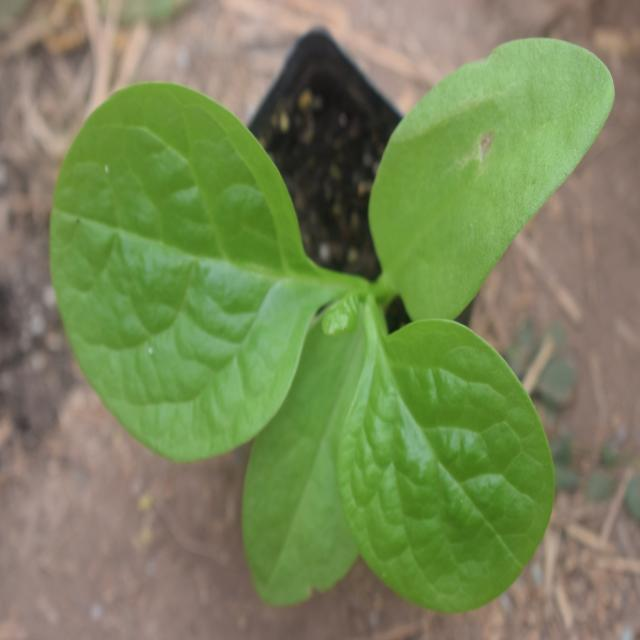Ceylon spinach: (36, 40, 581, 586)
